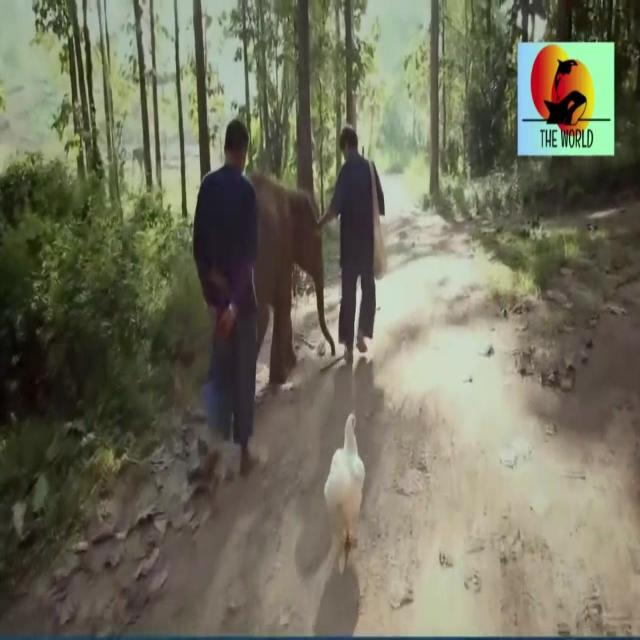Elephant: (262, 174, 324, 302)
